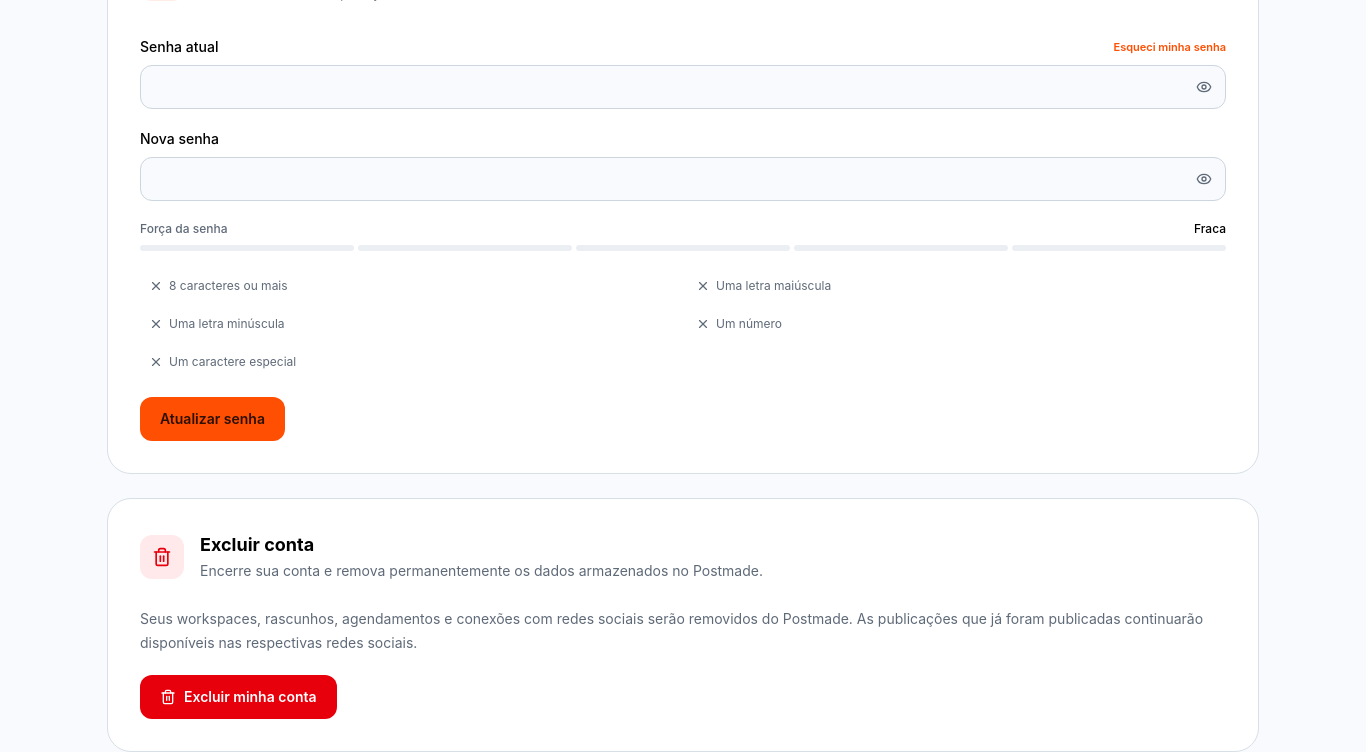
AccountPage › gives specific guidance for an overdue subscription
(page scrolled)
Step 1. Click the button "Excluir minha conta" → (238, 697), box [140,675,337,719]
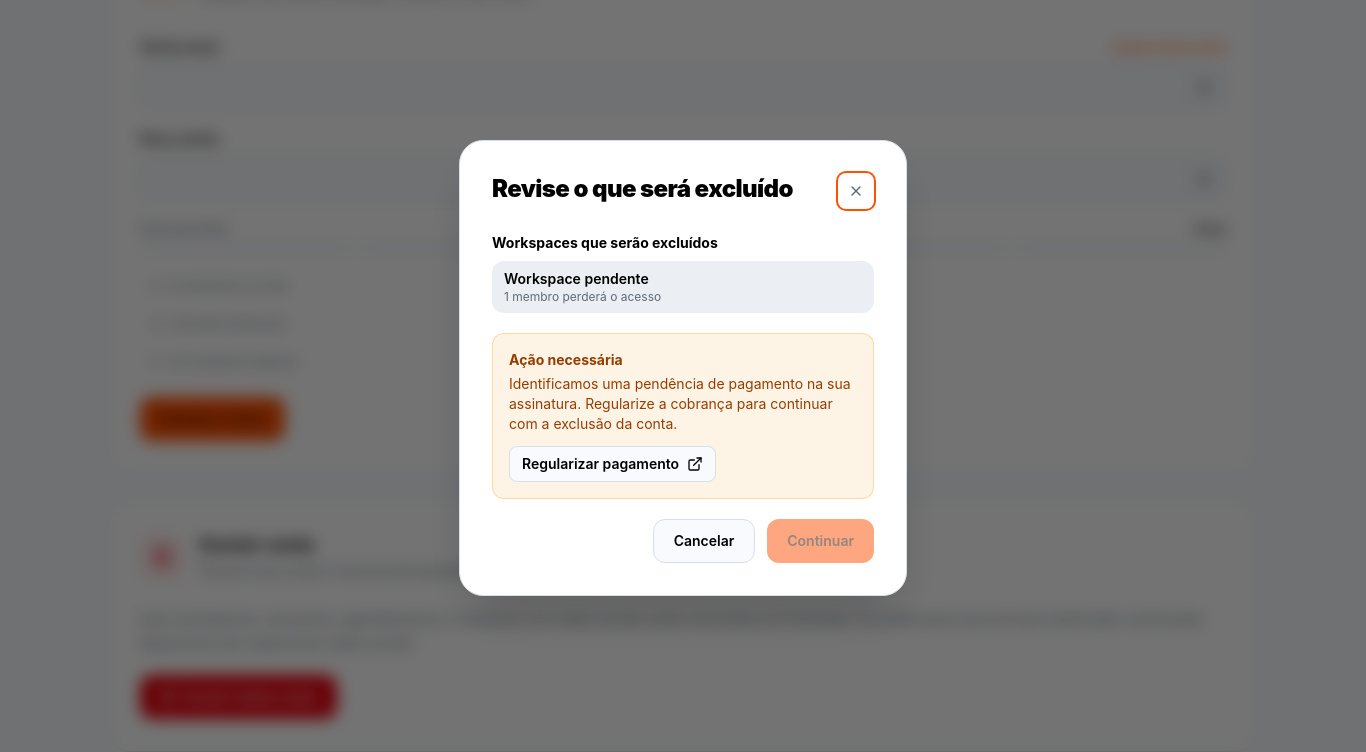
Now the text "Ação necessária" is shown, box [509,351,623,368]
Now the text "Identificamos uma pendência de pagamento na sua assinatura. Regularize a cobrança para continuar com a exclusão da conta" is shown, box [509,375,851,432]
Now the button "Regularizar pagamento" is shown, box [509,446,716,482]
